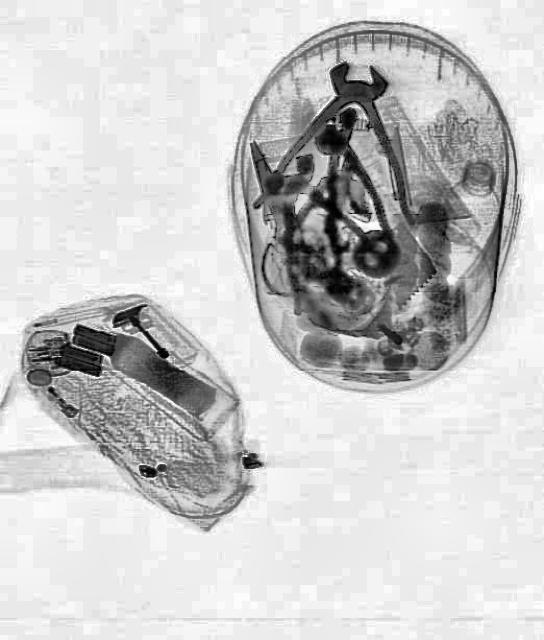Pliers: (252, 52, 428, 224)
